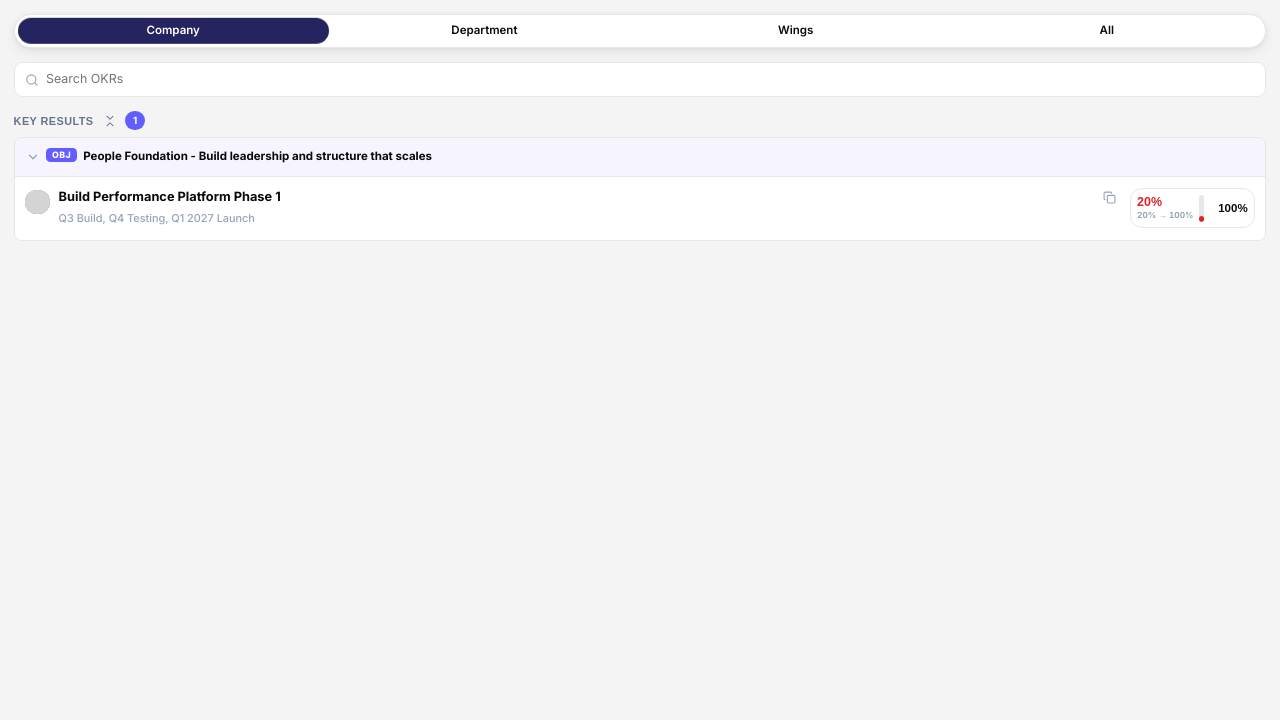
Test: GoalOkrReferenceList › disables Apply to goal and explains why on hover
Click the text "Build Performance Platform Phase 1": (170, 196) [59, 189, 281, 204]
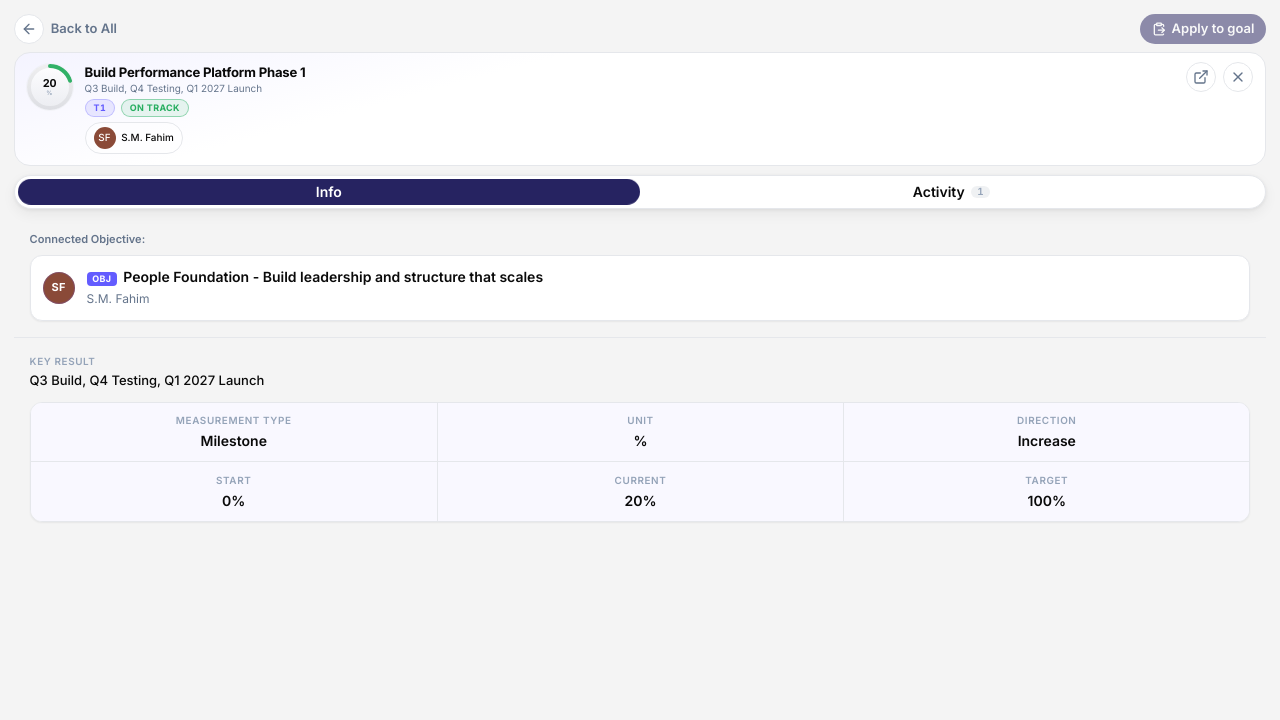
Expected: the button "Apply to goal" is disabled
Expected: the element "Apply to goal" is shown
Hover over the element "Apply to goal": (1203, 29) [1140, 14, 1266, 44]
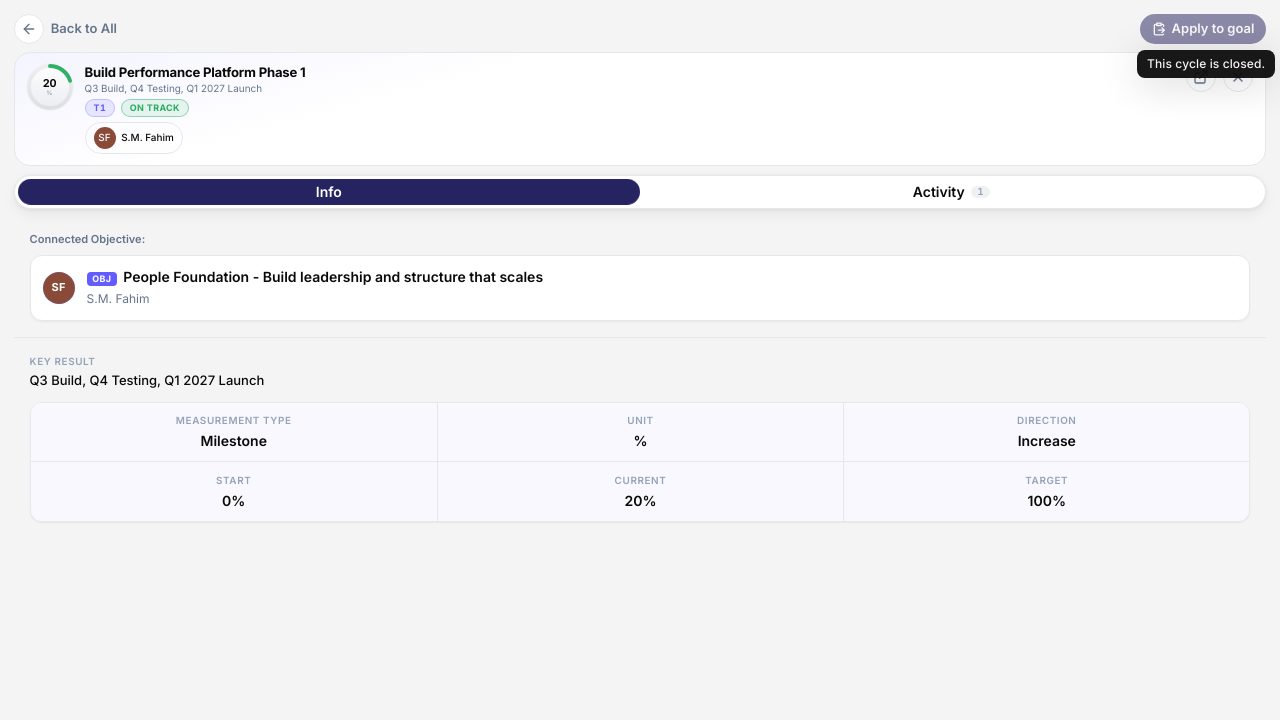
Expected: the tooltip reads "This cycle is closed.", [1147, 56, 1265, 71]
